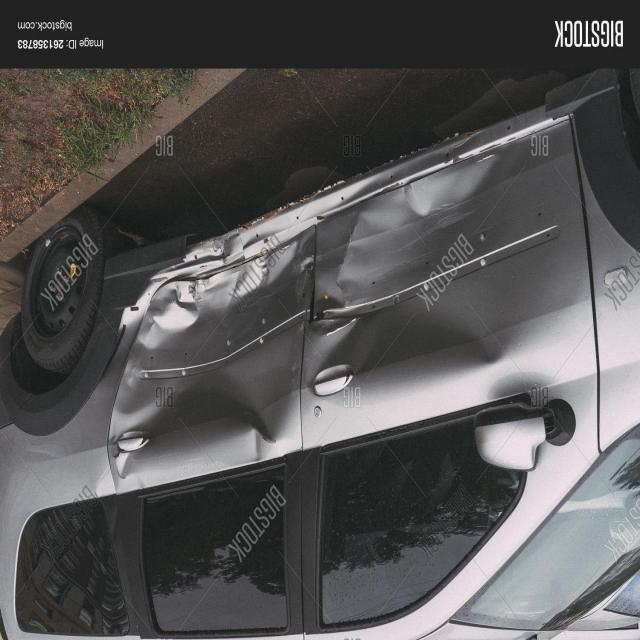dent: (122, 135, 522, 458)
